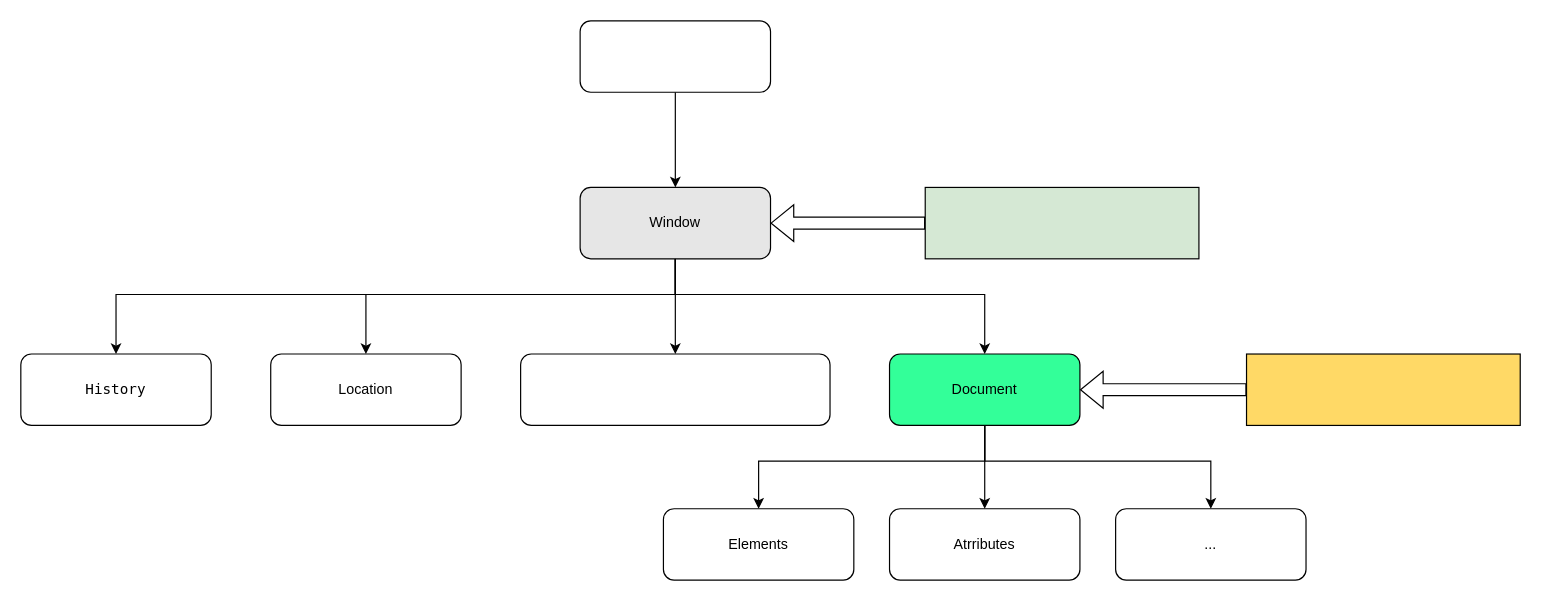
Some shapes in this 1541 by 601 pixel diagram are drawn without their labels. Here are the shapes that lost their labels. From the top down, the centre of each, then its label:
pixel 675 56: Global Scope
pixel 1061 222: BOM(Browser Object Model)
pixel 674 389: other BOM properties/methods
pixel 1382 389: DOM(Document Object Model)
